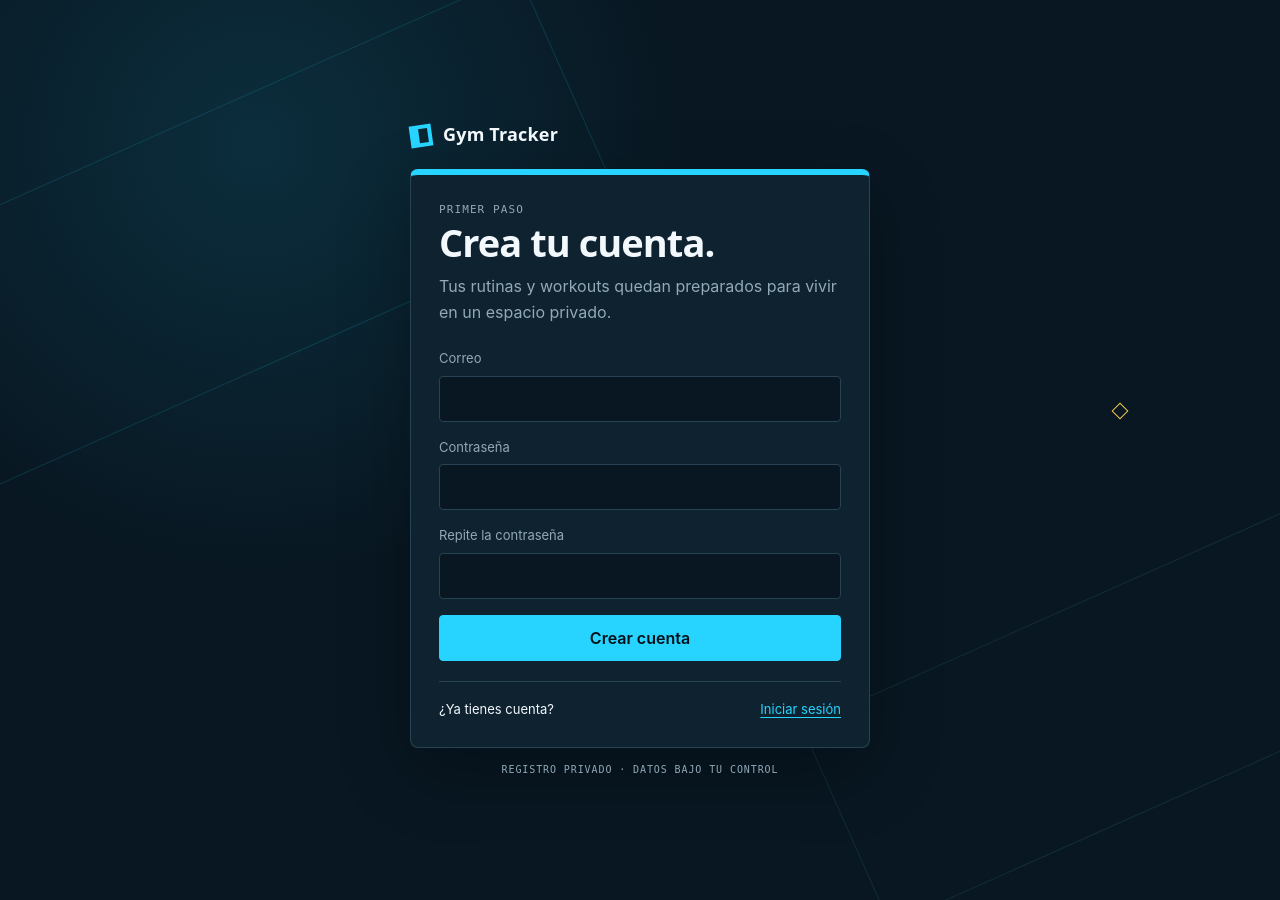
Test: autenticación simulada › crea una cuenta y presenta confirmación pendiente
In the field labelled "Correo": {"x": 640, "y": 399} left=439, top=376, right=841, bottom=422, type "nuevo@example.com"
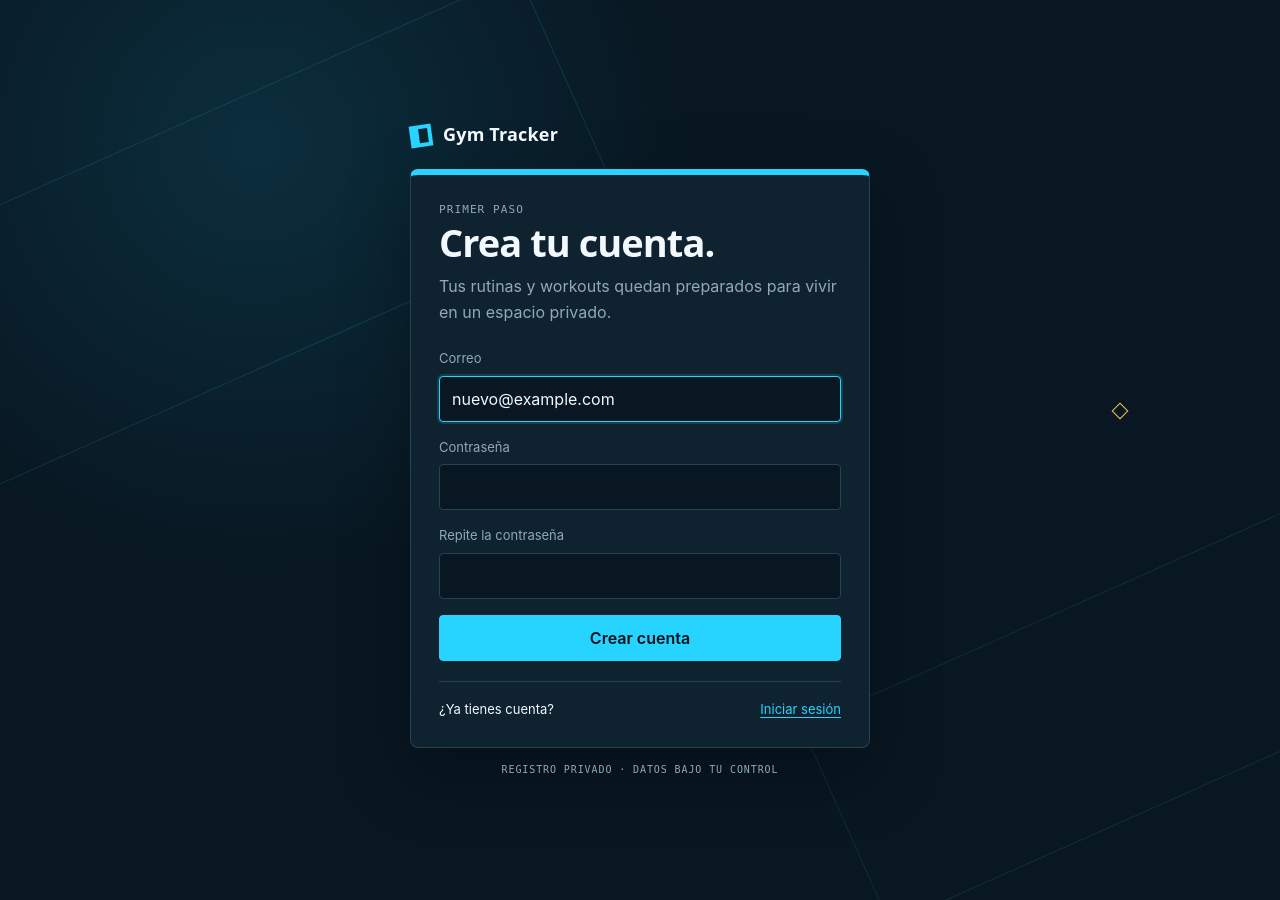
In the password field labelled "Contraseña": {"x": 640, "y": 487} left=439, top=464, right=841, bottom=510, type "segura123"
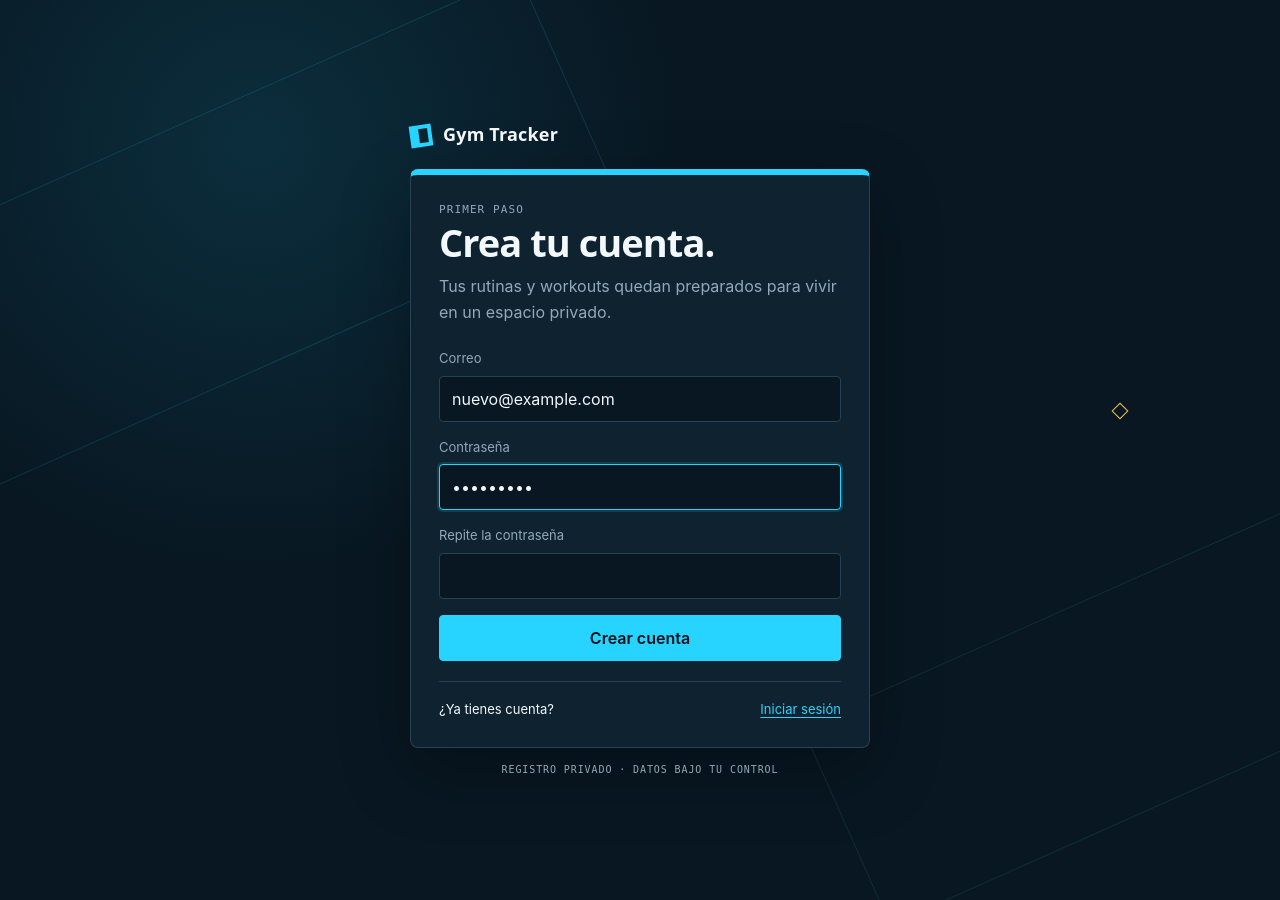
In the password field labelled "Repite la contraseña": {"x": 640, "y": 576} left=439, top=553, right=841, bottom=599, type "segura123"
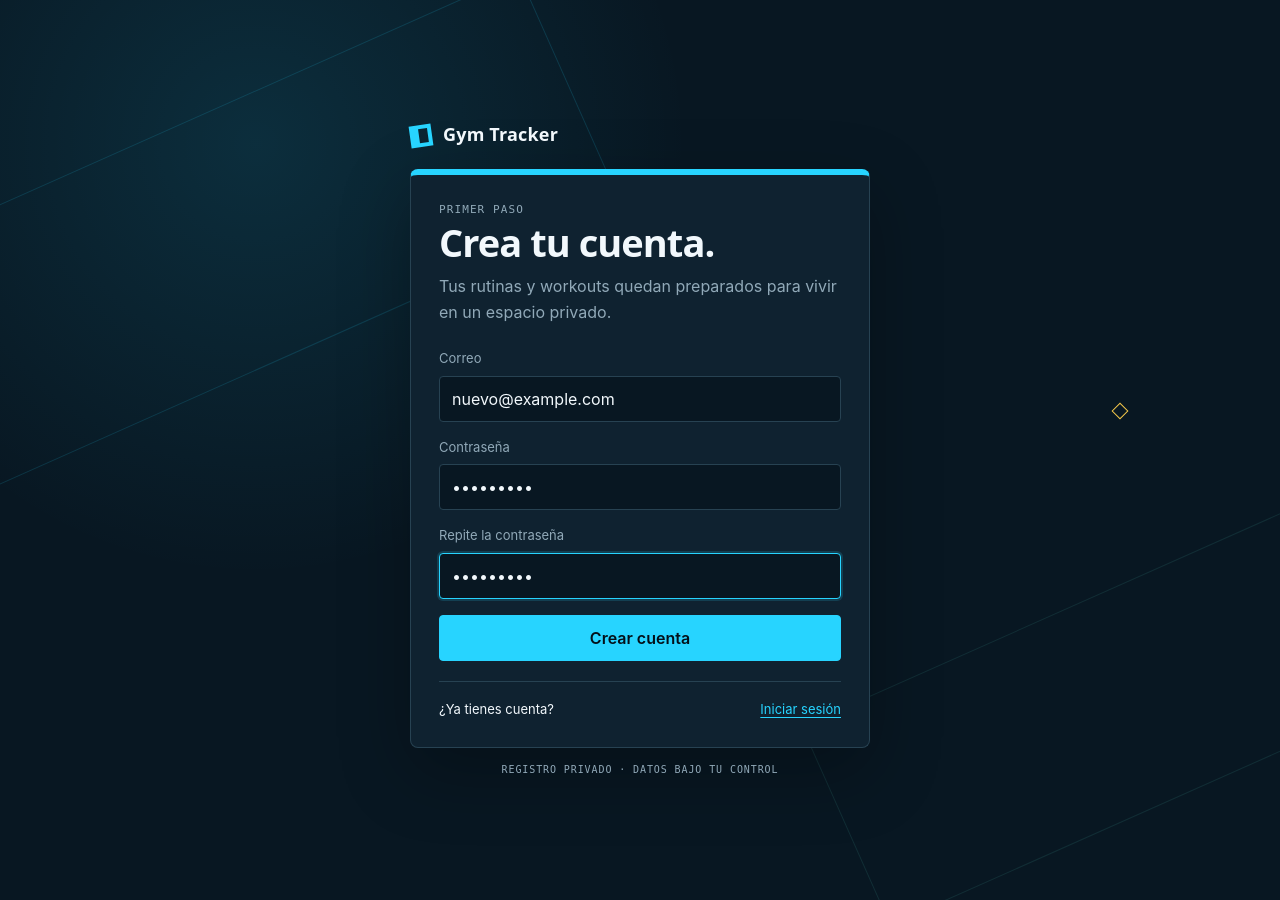
Click the button "Crear cuenta": {"x": 640, "y": 638} left=439, top=615, right=841, bottom=661
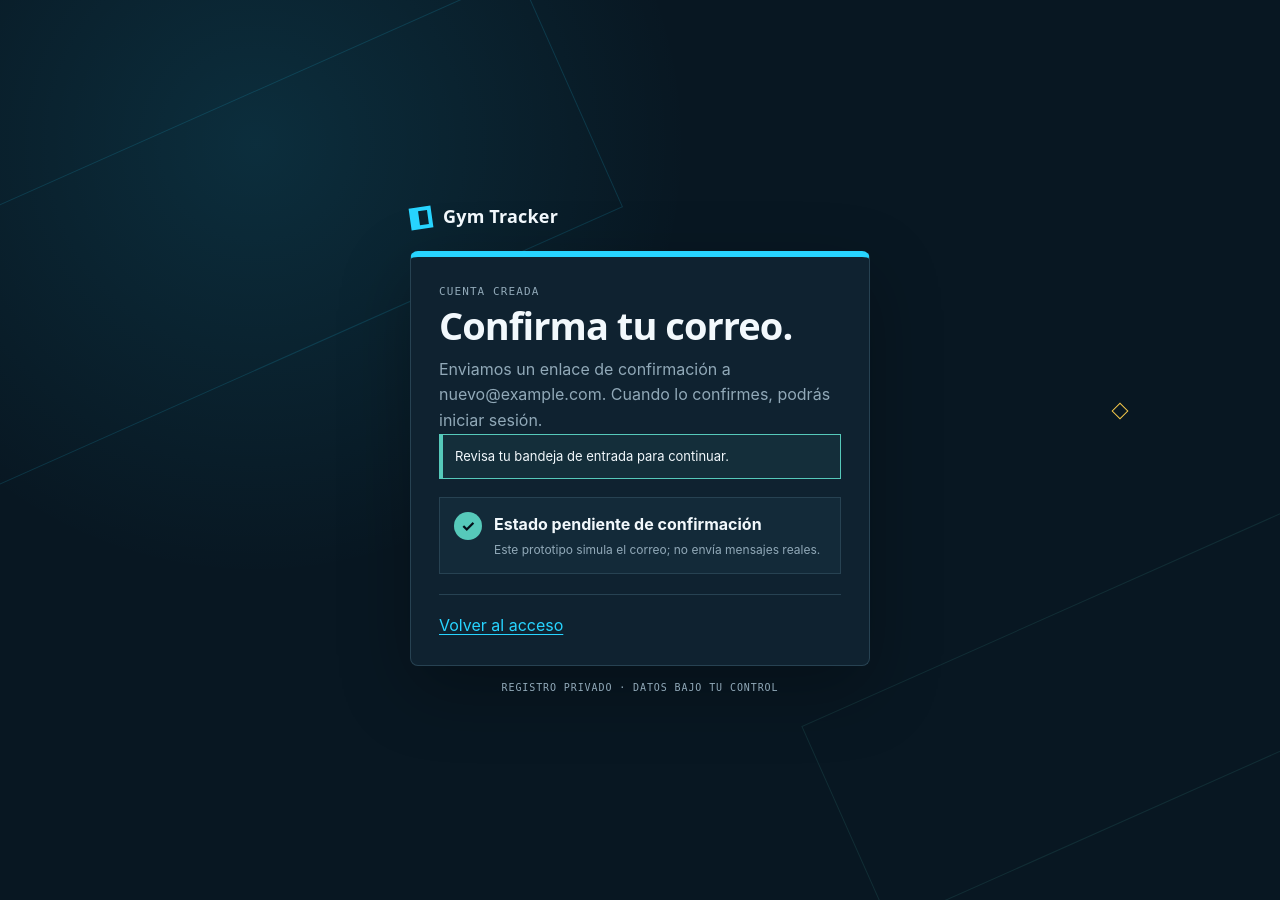
Expected: the text "Estado pendiente de confirmación" is shown, left=494, top=514, right=762, bottom=534
Expected: the text "nuevo@example.com" is shown, left=439, top=359, right=830, bottom=430
